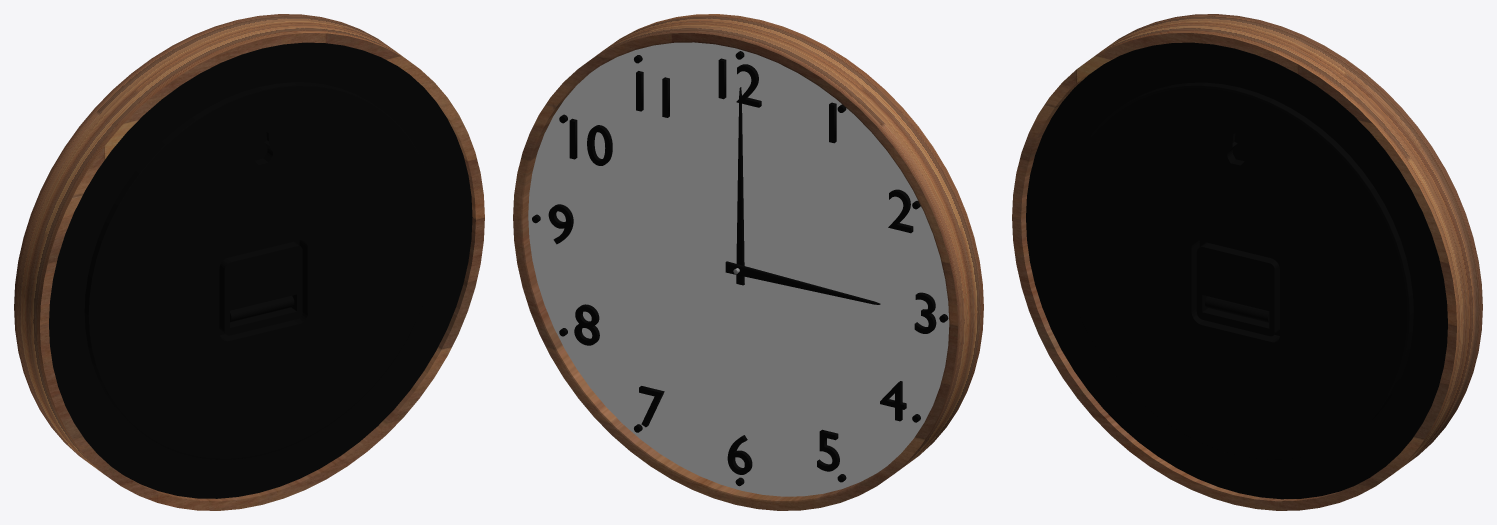
The model's file is clock.fbx.
3 renders of one model, left to right at view 1: azimuth 30°, elevation 25°; view 2: azimuth 150°, elevation 25°; view 3: azimuth 330°, elevation 25°, orthographic.
Visible parts, largest first — view 1: Clock; view 2: Clock, H, M, t.011, t.001, t, t.010, t.012, t.007, t.002, t.005, t.003 (+1 smaller); view 3: Clock.
Boxes of the visible parts, x1,y1,x2,y2 form: Clock: (14,14,484,510); Clock: (513,14,983,510); H: (725,261,880,304); M: (736,87,744,285); t.011: (569,118,612,165); t.001: (718,58,761,107); t: (532,51,948,486); t.010: (574,304,599,345); t.012: (636,71,669,117); t.007: (817,429,839,471); t.002: (548,204,573,244); t.005: (727,435,752,474); t.003: (914,292,936,333); Clock: (1012,14,1482,510).
Size of the model in its own units: 269 by 269 by 27.01.
